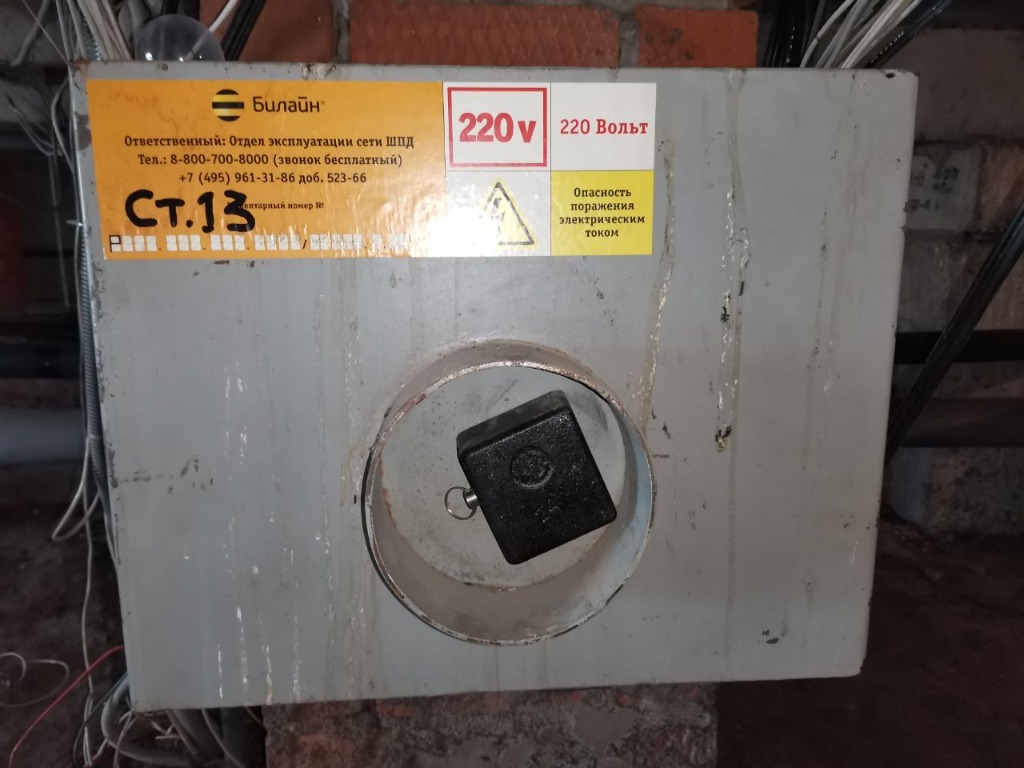shta-3: (61, 53, 926, 716)
